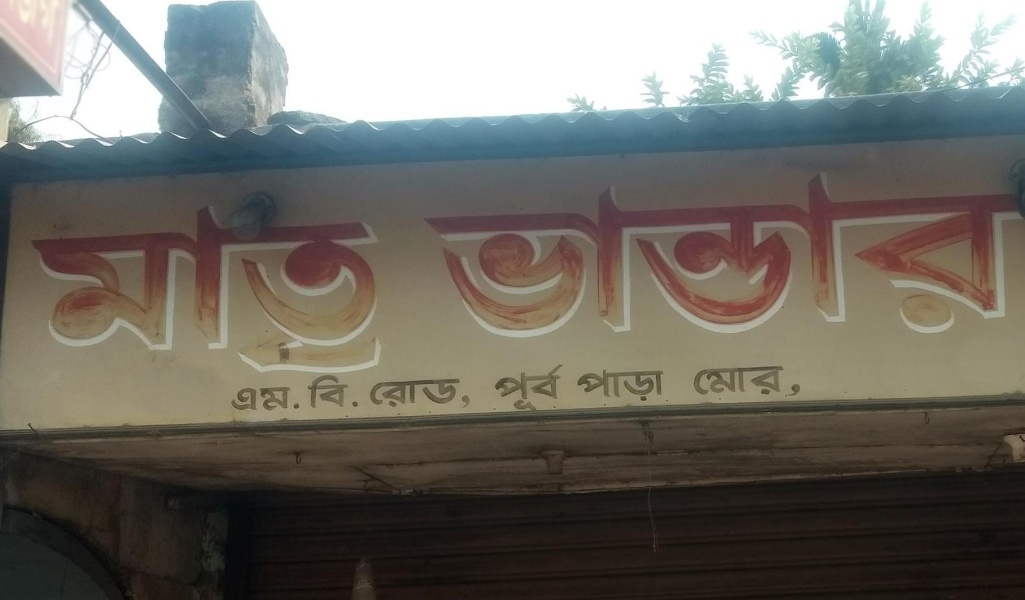text: (1009, 158, 1025, 367), (433, 158, 448, 367), (449, 158, 464, 367), (465, 158, 480, 367), (481, 158, 496, 367), (497, 158, 512, 367), (513, 158, 528, 367), (529, 158, 544, 367), (545, 158, 560, 367), (561, 158, 576, 367), (577, 158, 592, 367), (593, 158, 608, 367), (609, 158, 624, 367), (625, 158, 640, 367), (641, 158, 656, 367), (657, 158, 672, 367), (673, 158, 688, 367), (689, 158, 704, 367), (705, 158, 720, 367), (721, 158, 736, 367), (737, 158, 752, 367), (753, 158, 768, 367), (769, 158, 784, 367), (785, 158, 800, 367), (801, 158, 816, 367), (817, 158, 832, 367), (833, 158, 848, 367), (849, 158, 864, 367), (865, 158, 880, 367), (881, 158, 896, 367), (897, 158, 912, 367), (913, 158, 928, 367), (929, 158, 944, 367), (945, 158, 960, 367), (961, 158, 976, 367), (977, 158, 992, 367), (993, 158, 1008, 367), (418, 158, 432, 367), (33, 188, 48, 378), (49, 188, 64, 378), (65, 188, 80, 378), (81, 188, 96, 378), (97, 188, 112, 378), (113, 188, 128, 378), (129, 188, 144, 378), (145, 188, 160, 378), (161, 188, 176, 378), (177, 188, 192, 378), (193, 188, 208, 378), (209, 188, 224, 378), (225, 188, 240, 378), (241, 188, 256, 378), (257, 188, 272, 378), (273, 188, 288, 378), (289, 188, 304, 378), (305, 188, 320, 378), (321, 188, 336, 378), (337, 188, 352, 378), (353, 188, 368, 378), (369, 188, 384, 378), (385, 188, 390, 378), (497, 364, 512, 412), (513, 364, 528, 412), (529, 364, 544, 412), (545, 364, 560, 412), (321, 374, 336, 417), (337, 374, 352, 417), (577, 363, 592, 405), (593, 363, 608, 405), (609, 363, 624, 405), (625, 363, 640, 405), (641, 363, 656, 405), (689, 366, 704, 405), (705, 366, 720, 405), (721, 366, 736, 405), (737, 366, 752, 405), (753, 366, 768, 405), (769, 366, 784, 405), (785, 366, 800, 405), (369, 379, 384, 411), (385, 379, 400, 411), (401, 379, 416, 411), (417, 379, 432, 411), (433, 379, 448, 411), (449, 379, 464, 411), (309, 374, 320, 417), (561, 364, 570, 412), (241, 384, 256, 412), (257, 384, 272, 412), (273, 384, 288, 412), (227, 384, 240, 412), (289, 384, 301, 412), (657, 363, 665, 405), (465, 379, 475, 411), (353, 374, 359, 417), (31, 188, 32, 378), (685, 366, 688, 405), (494, 364, 496, 412), (801, 366, 802, 405)
